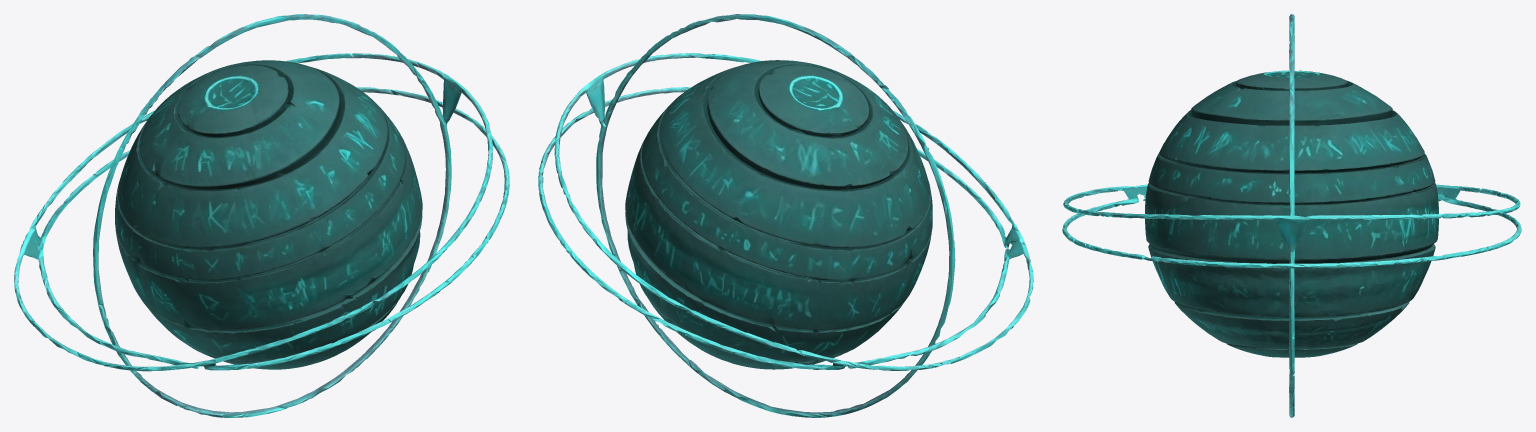
File: relique-orbe.glb
3 renders of one model, left to right at view 1: azimuth 30°, elevation 25°; view 2: azimuth 150°, elevation 25°; view 3: azimuth 270°, elevation 25°, orthographic. The views are drawn at different scales.
Size of the model in its own units: 0.9796 by 0.8674 by 0.9767.
1 material, 1 textured.
